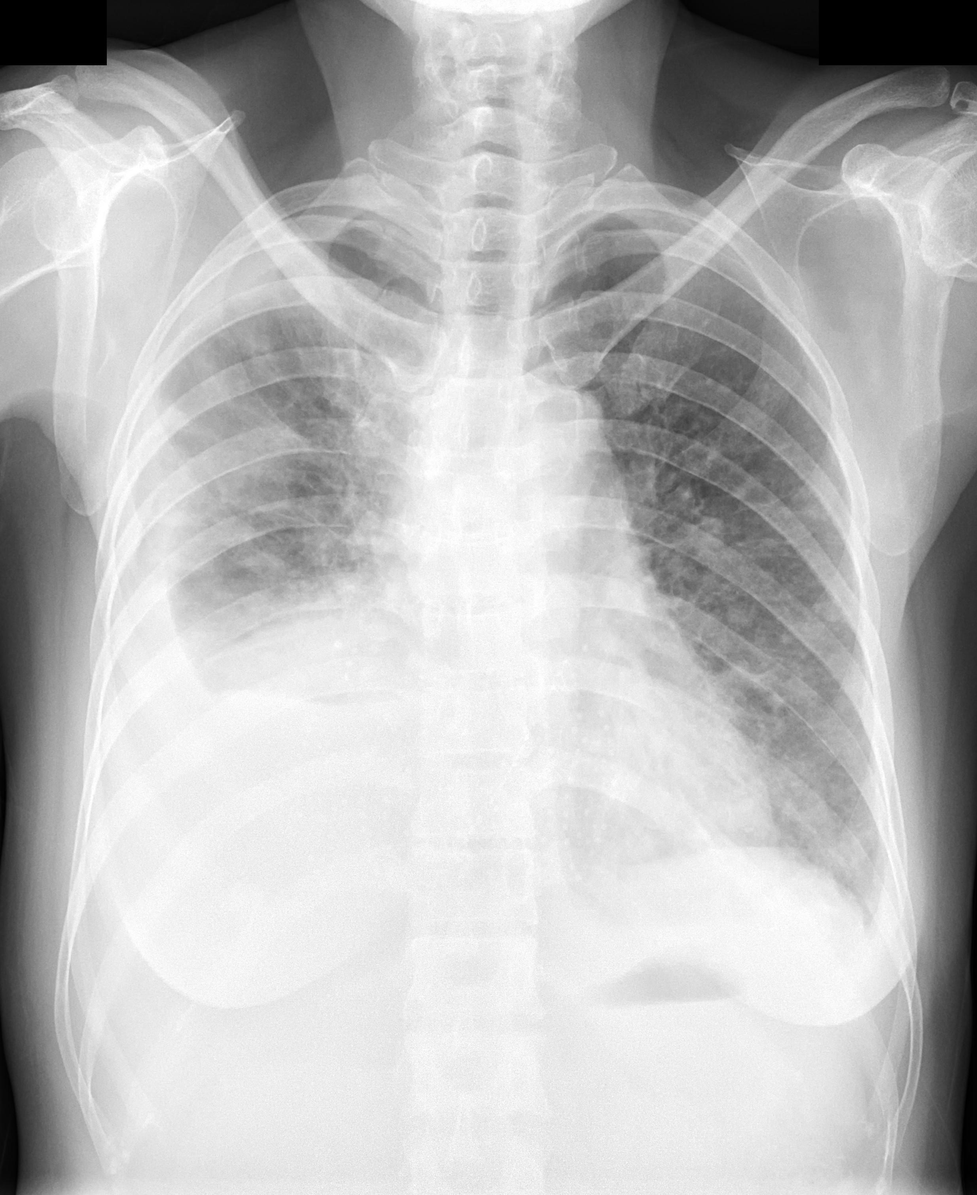Pleural thickening: (178, 614, 406, 707), (186, 218, 332, 283)
